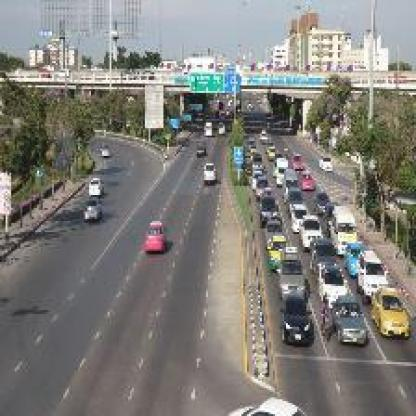other: (364, 286, 408, 342), (144, 208, 169, 252)
